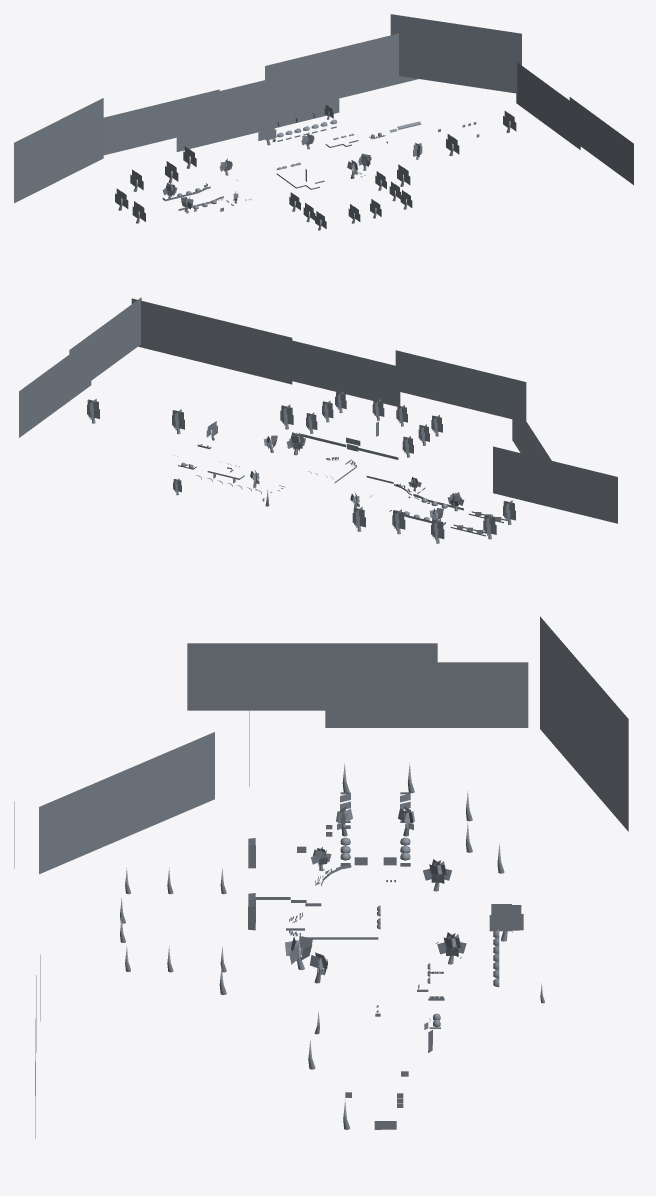
File: gltf__Models__map__Tutorial__modeA__tutorial00_alphaMesh.glb
3 views of the same model, one above another, from view 1: azimuth 30°, elevation 25°; view 2: azimuth 150°, elevation 25°; view 3: azimuth 270°, elevation 25° (orthographic). The views are drawn at different scales.
Parts seen in each view (by area): view 1: tutorial00_alphaMesh; view 2: tutorial00_alphaMesh; view 3: tutorial00_alphaMesh.
Boxes of the visible parts, x1=… form: tutorial00_alphaMesh: x1=14, y1=14, x2=633, y2=230; tutorial00_alphaMesh: x1=19, y1=297, x2=617, y2=543; tutorial00_alphaMesh: x1=14, y1=616, x2=628, y2=1138.
Bounding box in the file's own units: 202 × 33.19 × 119.
1 material, 1 textured.
